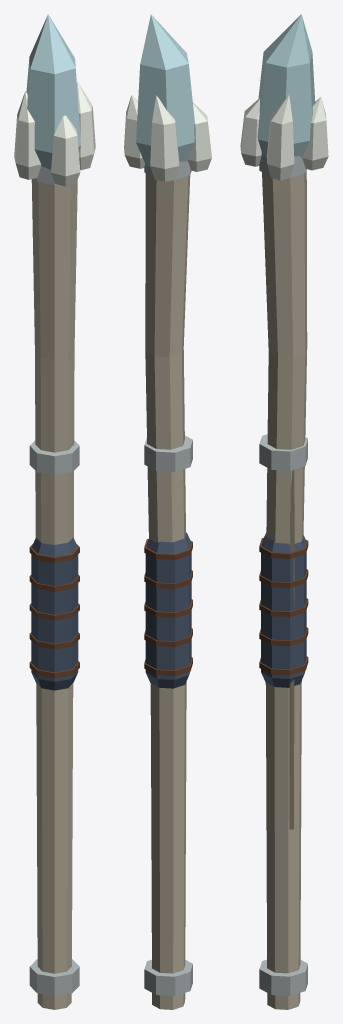
Rendered from weapon_staff_crystal.glb.
3 renders of one model, left to right at view 1: azimuth 90°, elevation 25°; view 2: azimuth 150°, elevation 25°; view 3: azimuth 330°, elevation 25°, orthographic.
Parts seen in each view (by area): view 1: weapon_staff_crystal; view 2: weapon_staff_crystal; view 3: weapon_staff_crystal.
Boxes of the visible parts, box(x1,y1,x2,y2) form: weapon_staff_crystal: box(14, 14, 95, 1009); weapon_staff_crystal: box(124, 14, 211, 1009); weapon_staff_crystal: box(240, 14, 328, 1009).
Bounding box in the file's own units: 0.1873 × 2.3 × 0.1732.
